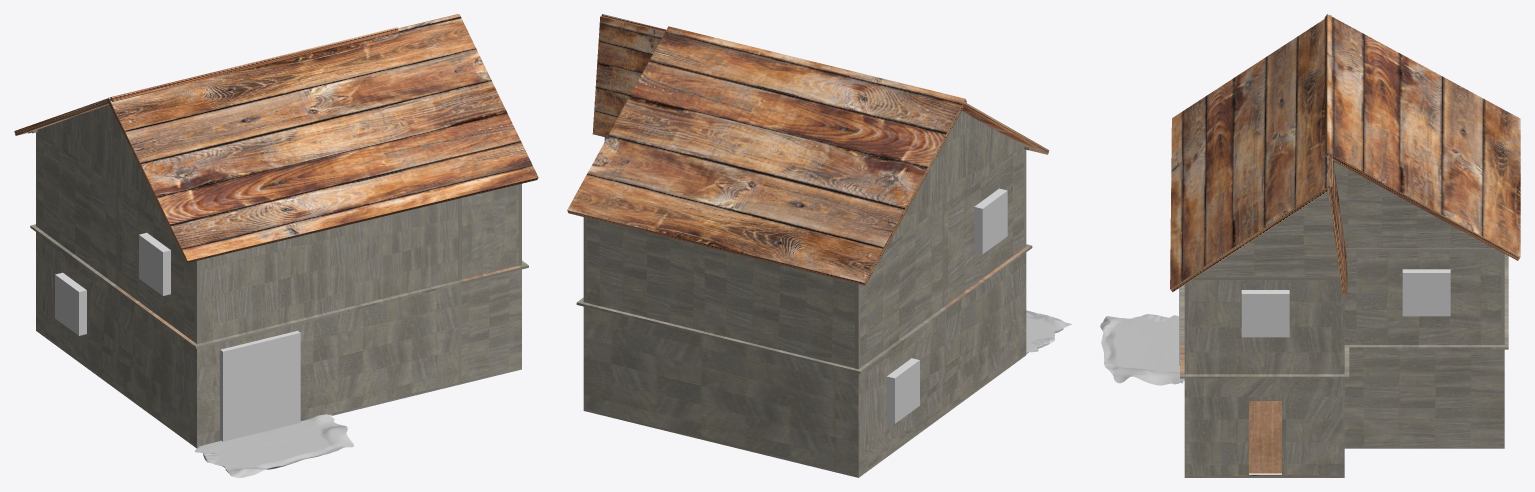
Rendered from casa2.fbx.
3 views of the same model, side by side, from view 1: azimuth 30°, elevation 25°; view 2: azimuth 150°, elevation 25°; view 3: azimuth 270°, elevation 25° (orthographic). The views are drawn at different scales.
Visible parts, largest first — view 1: Cube, Cube.004, Cube.001, Cube.002, Cube.003, finestra.002, finestra.003; view 2: Cube, Cube.003, Cube.005, finestra.002, finestra.003, Cube.002, Cube.004; view 3: Cube, Cube.003, Cube.004, Cube.002, finestra, finestra.001, Cube.005.
Part boxes in pixels (x1,y1,x2,y2): Cube: (28,104,528,448); Cube.004: (107,14,538,263); Cube.001: (220,330,300,441); Cube.002: (194,414,353,477); Cube.003: (14,27,398,135); finestra.002: (139,232,170,295); finestra.003: (55,272,86,335); Cube: (576,111,1035,477); Cube.003: (567,26,966,285); Cube.005: (592,16,665,137); finestra.002: (974,188,1007,254); finestra.003: (886,358,919,423); Cube.002: (1026,310,1071,353); Cube.004: (601,14,1049,154); Cube: (1180,161,1508,477); Cube.003: (1324,14,1520,260); Cube.004: (1170,15,1331,291); Cube.002: (1100,314,1184,385); finestra: (1241,290,1289,337); finestra.001: (1402,269,1450,316); Cube.005: (1327,156,1347,293).
Bounding box in the file's own units: 1095 × 910 × 1144.
